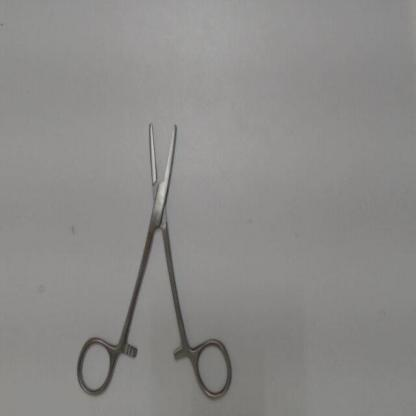Mayo Needle Holder: (70, 100, 241, 408)
